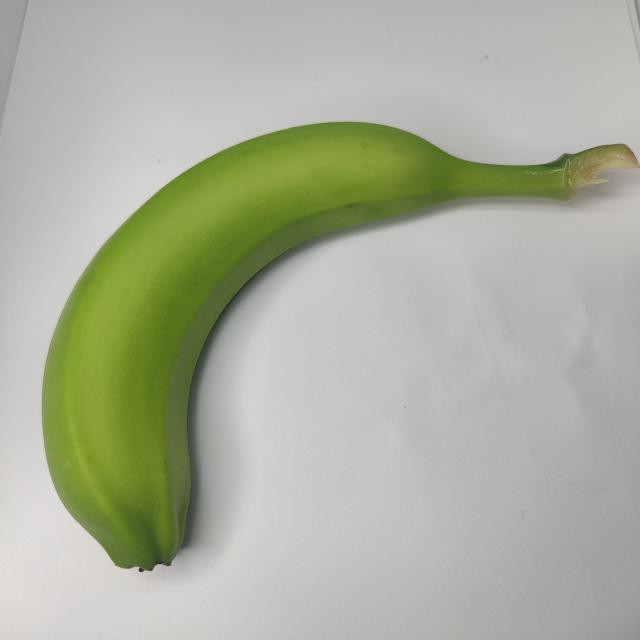raw: (4, 106, 640, 592)
